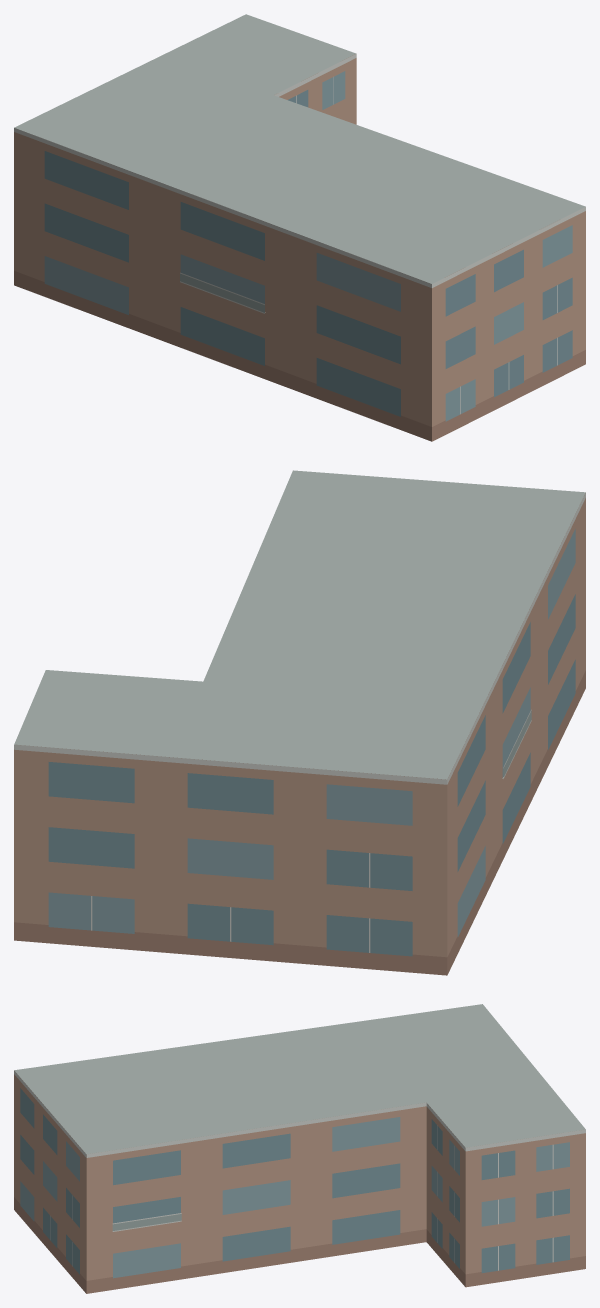
File: survey-upis-32697602.glb
The picture shows the model from 3 angles, top to bottom: view 1: azimuth 30°, elevation 25°; view 2: azimuth 150°, elevation 25°; view 3: azimuth 270°, elevation 25°; orthographic projection. The views are drawn at different scales.
Parts seen in each view (by area): view 1: survey-upis-32697602.tmp; view 2: survey-upis-32697602.tmp; view 3: survey-upis-32697602.tmp.
Boxes of the visible parts, left/top/right/bottom form: survey-upis-32697602.tmp: left=14, top=14, right=585, bottom=441; survey-upis-32697602.tmp: left=14, top=470, right=585, bottom=975; survey-upis-32697602.tmp: left=14, top=1004, right=585, bottom=1293.
Size of the model in its own units: 21.14 by 9.15 by 33.99.
